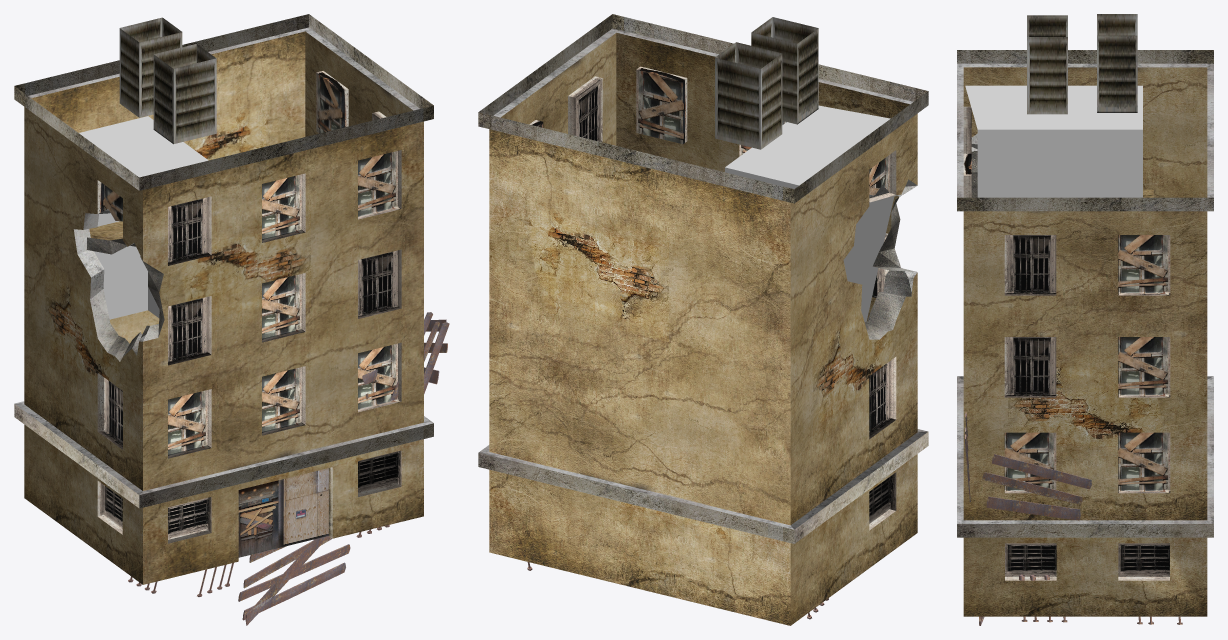
The model's file is Big_house3.FBX.
3 views of the same model, side by side, from view 1: azimuth 30°, elevation 25°; view 2: azimuth 150°, elevation 25°; view 3: azimuth 270°, elevation 25° (orthographic). The views are drawn at different scales.
Parts seen in each view (by area): view 1: Box02, black, planks; view 2: Box02, black; view 3: Box02, black, planks.
Part boxes in pixels (x1,y1,x2,y2): Box02: [14, 14, 433, 584]; black: [79, 116, 208, 319]; planks: [128, 312, 449, 625]; Box02: [478, 14, 928, 625]; black: [725, 105, 894, 321]; Box02: [957, 14, 1213, 616]; black: [965, 85, 1142, 197]; planks: [965, 412, 1182, 625].
Size of the model in its own units: 99.14 by 162 by 66.
Materials: 2 (2 with a texture image).
